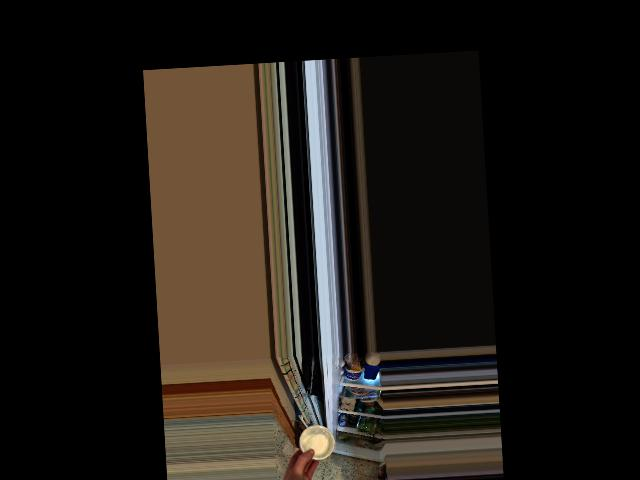cotage: (297, 421, 336, 459)
